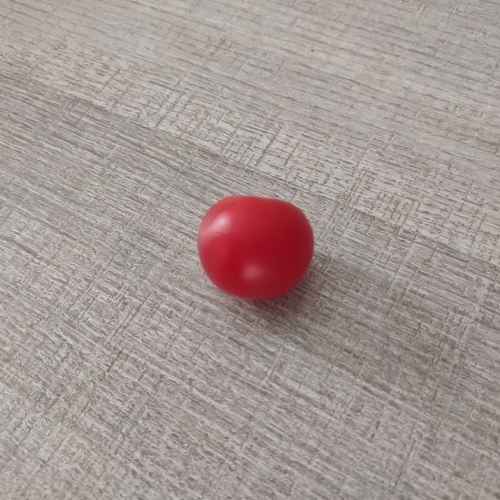pomodoro: (196, 192, 321, 303)
